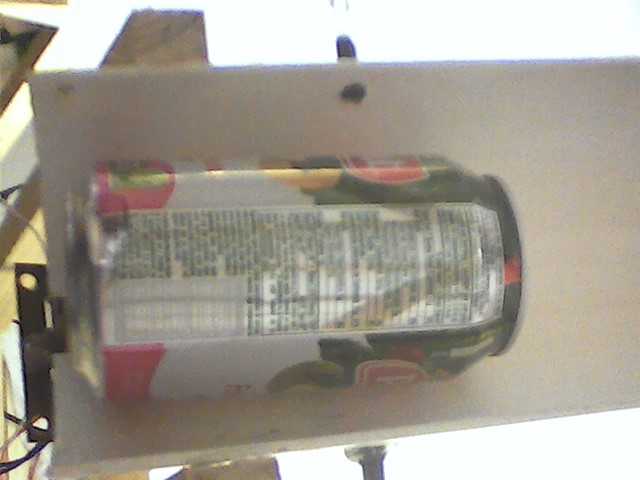lata: (59, 144, 538, 416)
